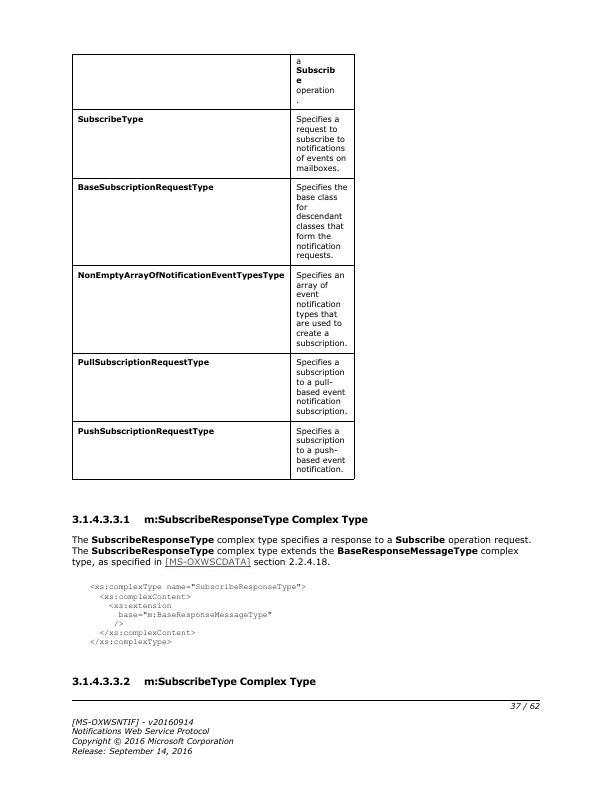table: (71, 50, 359, 483)
text: (68, 533, 533, 566), (86, 579, 311, 647), (67, 714, 236, 755), (68, 513, 369, 526), (68, 674, 317, 689)
